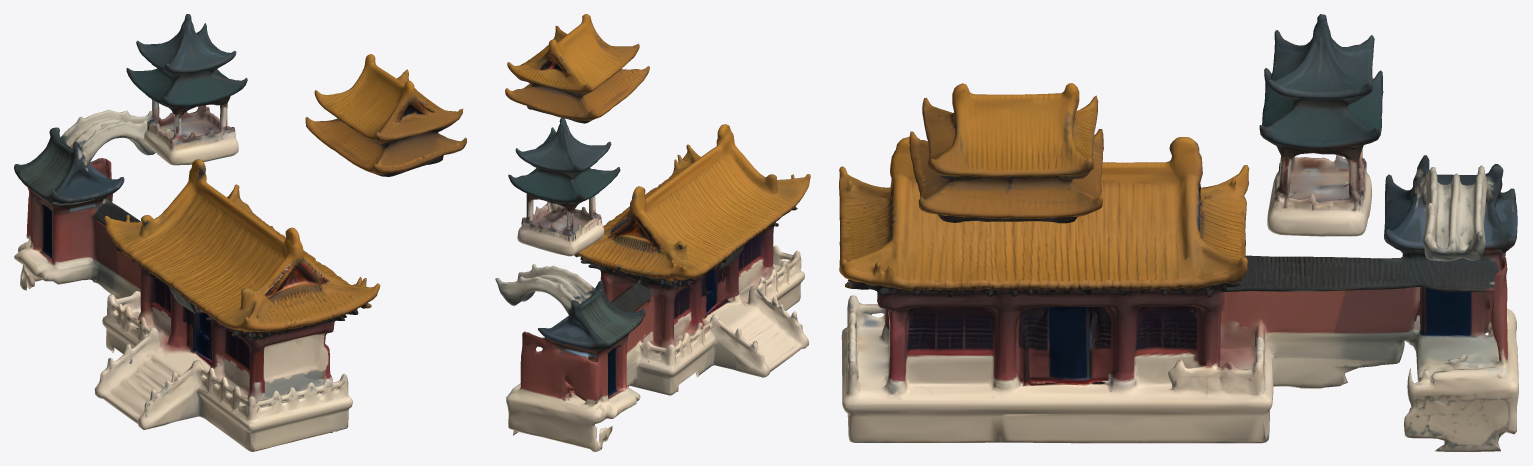
3 views of the same model, side by side, from view 1: azimuth 30°, elevation 25°; view 2: azimuth 150°, elevation 25°; view 3: azimuth 270°, elevation 25° (orthographic). The views are drawn at different scales.
Visible parts, largest first — view 1: material.001; view 2: material.001; view 3: material.001.
Boxes of the visible parts, left/top/right/bottom form: material.001: left=14, top=14, right=466, bottom=451; material.001: left=495, top=14, right=810, bottom=451; material.001: left=839, top=14, right=1518, bottom=451.
Bounding box in the file's own units: 0.6892 × 0.6655 × 0.927.
Materials: 1 (1 with a texture image).
